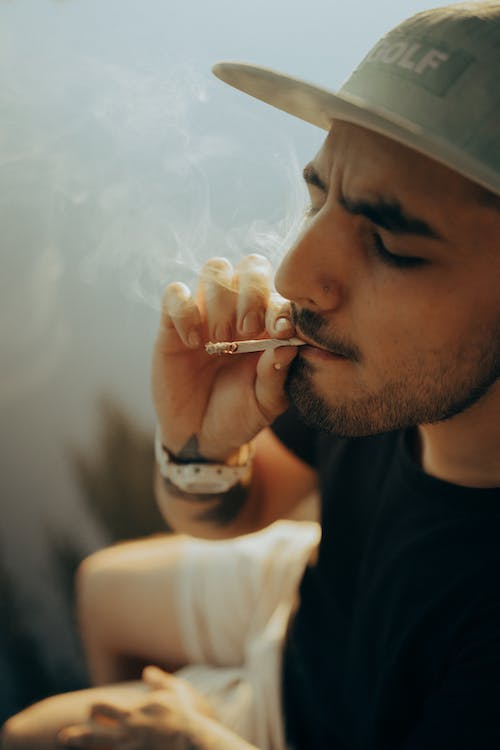cigarette: (200, 333, 314, 358)
